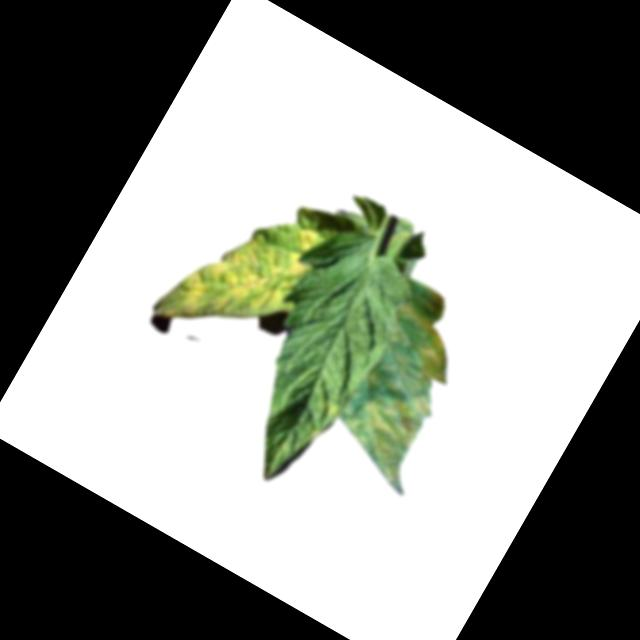Leaf_Mold: (319, 280, 497, 496), (147, 180, 332, 375), (302, 398, 341, 444)
